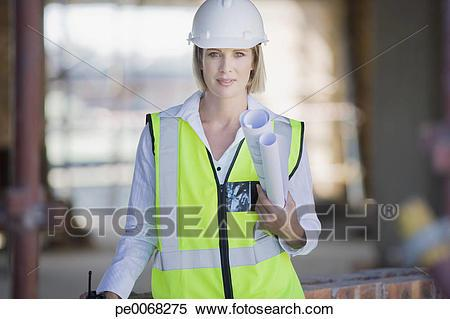helmet: (188, 1, 271, 50)
